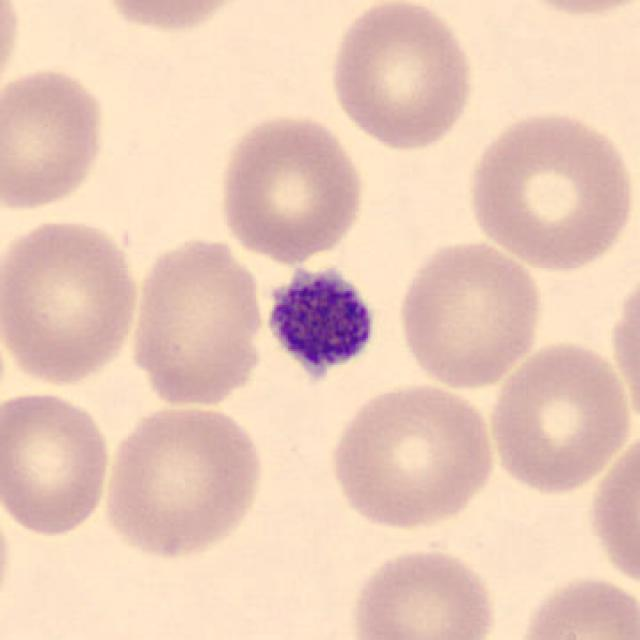Platelets: (256, 258, 382, 390)
RBC: (462, 104, 638, 275), (98, 400, 268, 562), (323, 378, 500, 532), (0, 212, 146, 390), (124, 231, 268, 409), (213, 108, 370, 266), (393, 235, 547, 393), (484, 335, 634, 497), (323, 0, 480, 153), (0, 386, 116, 540), (0, 64, 110, 215), (345, 543, 501, 640), (583, 423, 638, 598), (512, 571, 638, 640), (604, 263, 640, 437), (93, 0, 255, 37), (496, 0, 640, 19), (0, 0, 25, 102), (0, 490, 16, 622)
